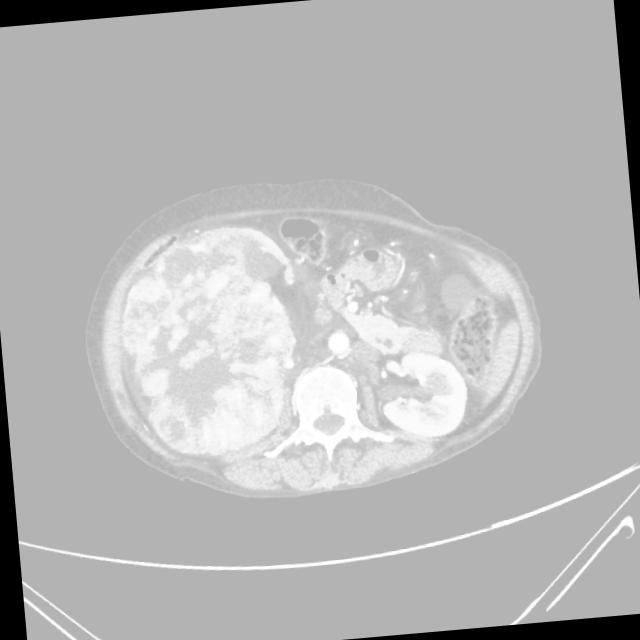TUMOR: (297, 222, 562, 453)
